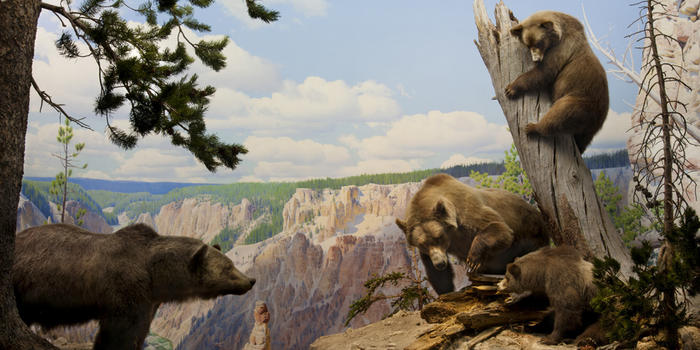bear: (394, 198, 457, 269), (190, 237, 257, 300), (506, 19, 560, 65), (493, 261, 524, 295)
